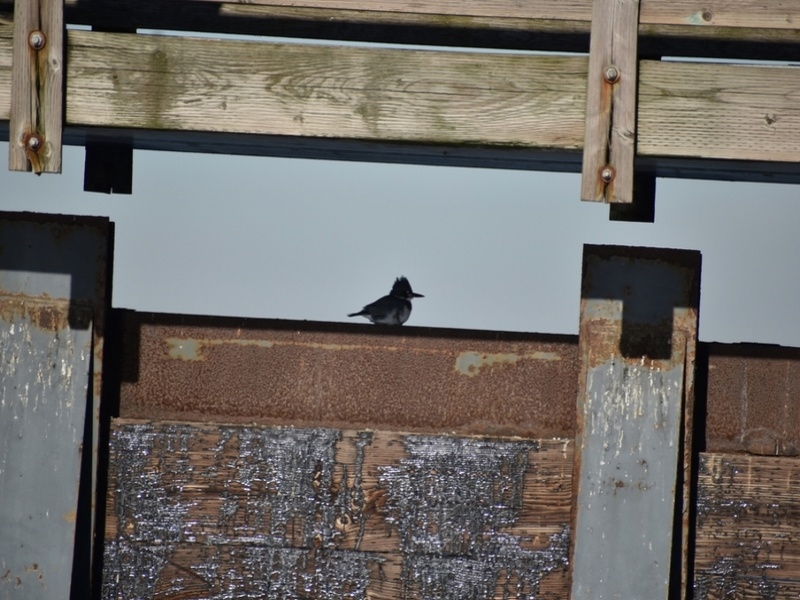kingfisher: (346, 275, 424, 323)
